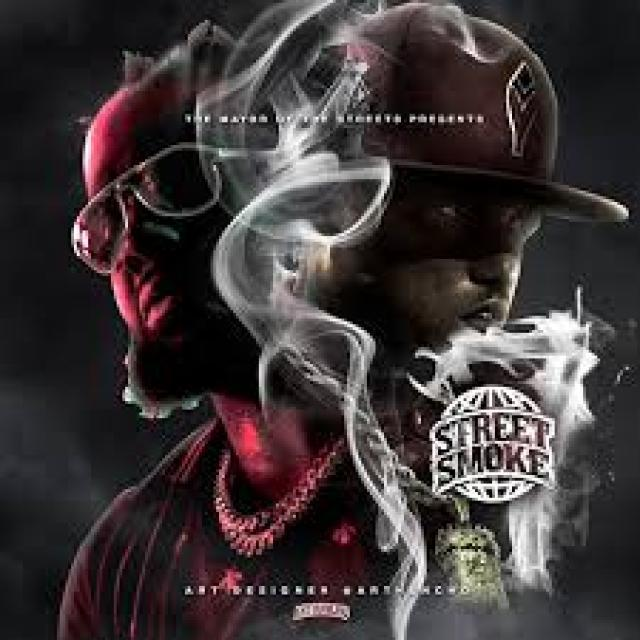Smoke: (194, 42, 376, 412), (432, 307, 640, 529)
